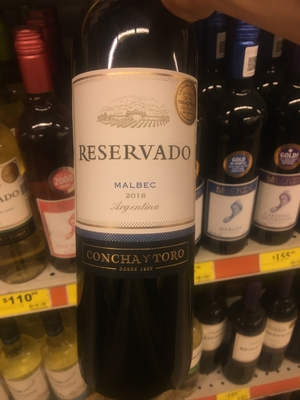reservado malbec: (63, 10, 202, 400)
